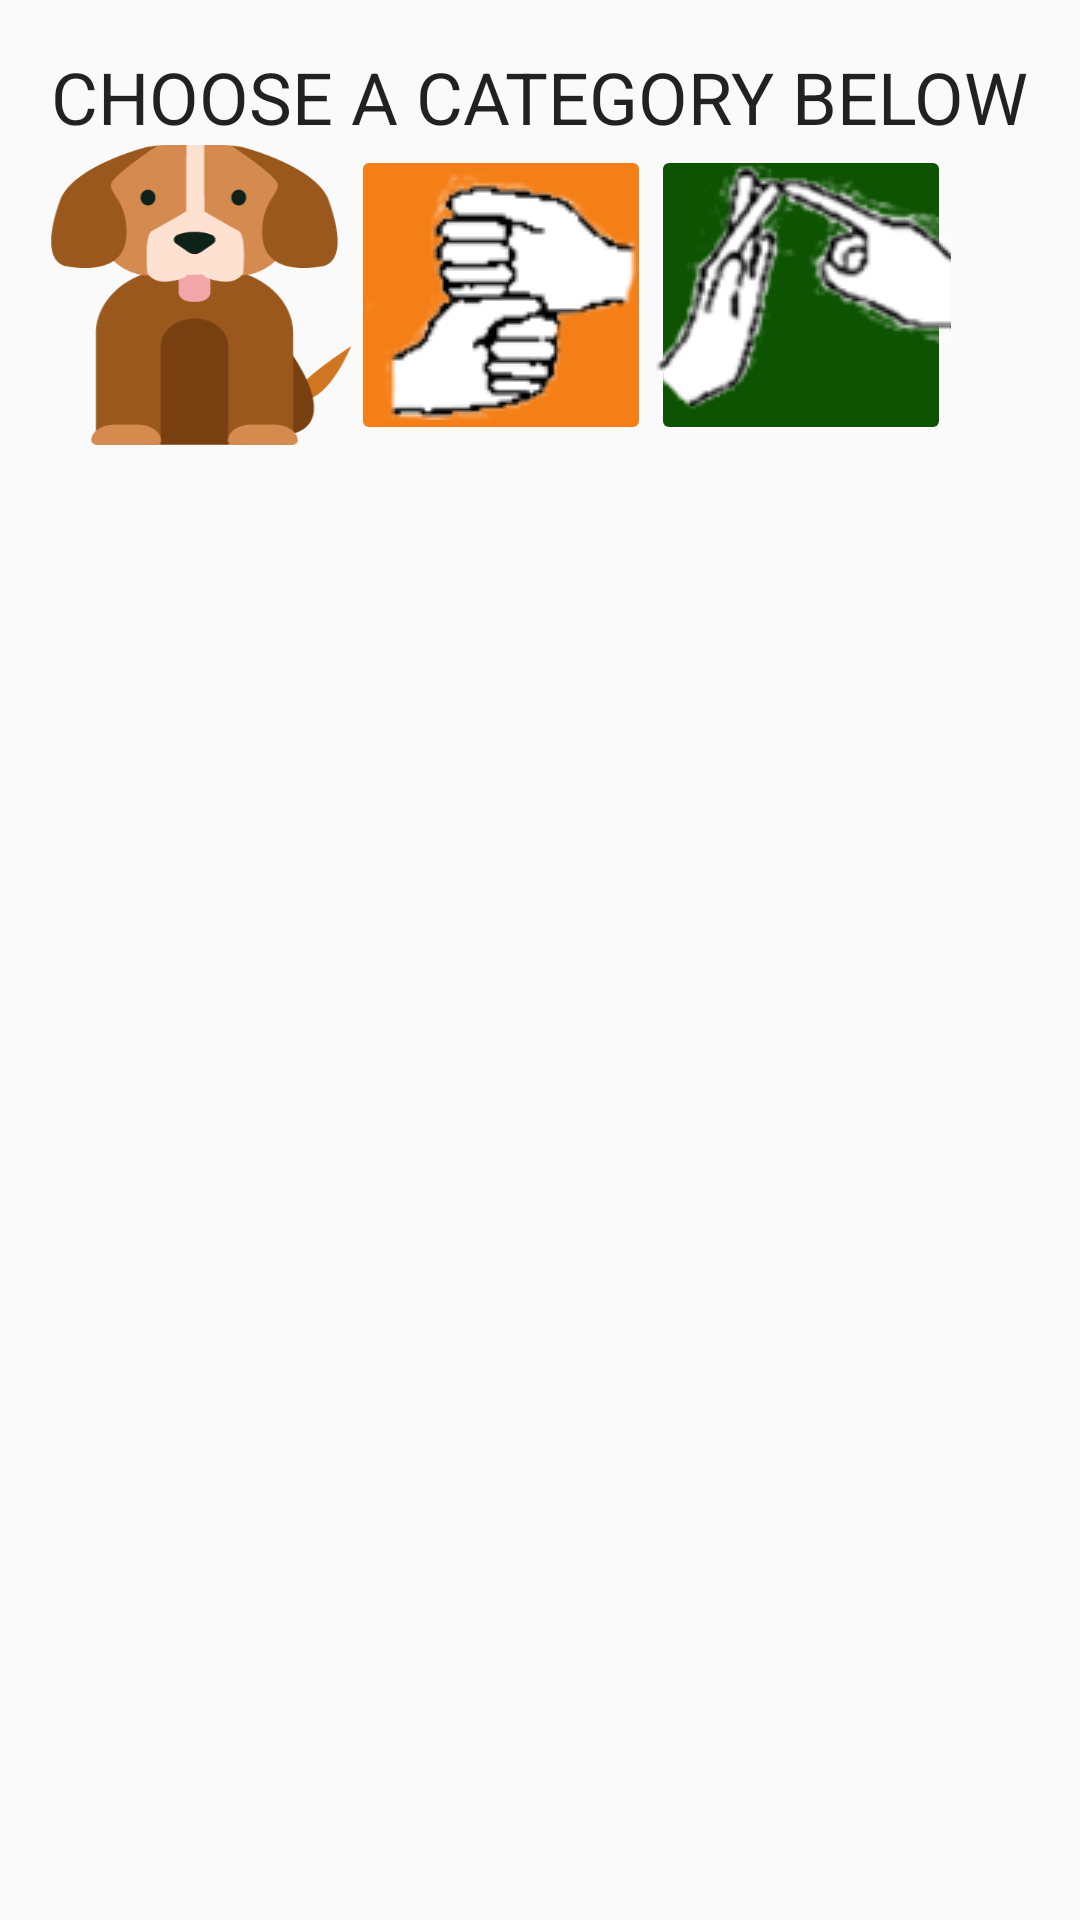

Where to tap for icons on this 1080px×1920px app screen, as (x=x, y=y):
dog: (x=201, y=295)
